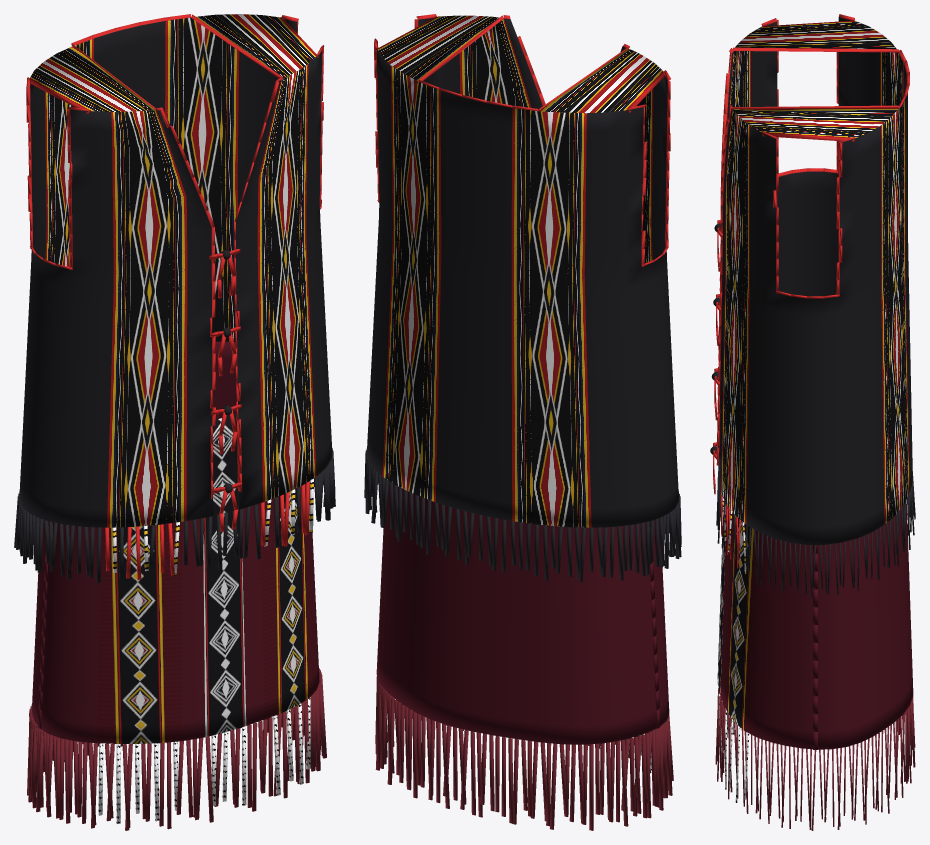
File: traditional_outfit_reconstruction.fbx
3 renders of one model, left to right at view 1: azimuth 30°, elevation 25°; view 2: azimuth 150°, elevation 25°; view 3: azimuth 270°, elevation 25°, orthographic. The views are drawn at different scales.
Visible parts, largest first — view 1: TOP_GARMENT, BOTTOM_GARMENT; view 2: TOP_GARMENT, BOTTOM_GARMENT; view 3: TOP_GARMENT, BOTTOM_GARMENT.
Part boxes in pixels (x1,y1,x2,y2): TOP_GARMENT: (14, 14, 335, 583); BOTTOM_GARMENT: (27, 341, 326, 830); TOP_GARMENT: (364, 14, 681, 582); BOTTOM_GARMENT: (375, 481, 673, 830); TOP_GARMENT: (710, 14, 915, 598); BOTTOM_GARMENT: (715, 503, 915, 830).
Bounding box in the file's own units: 49.23 × 112 × 30.15.
7 materials, 2 textured.
